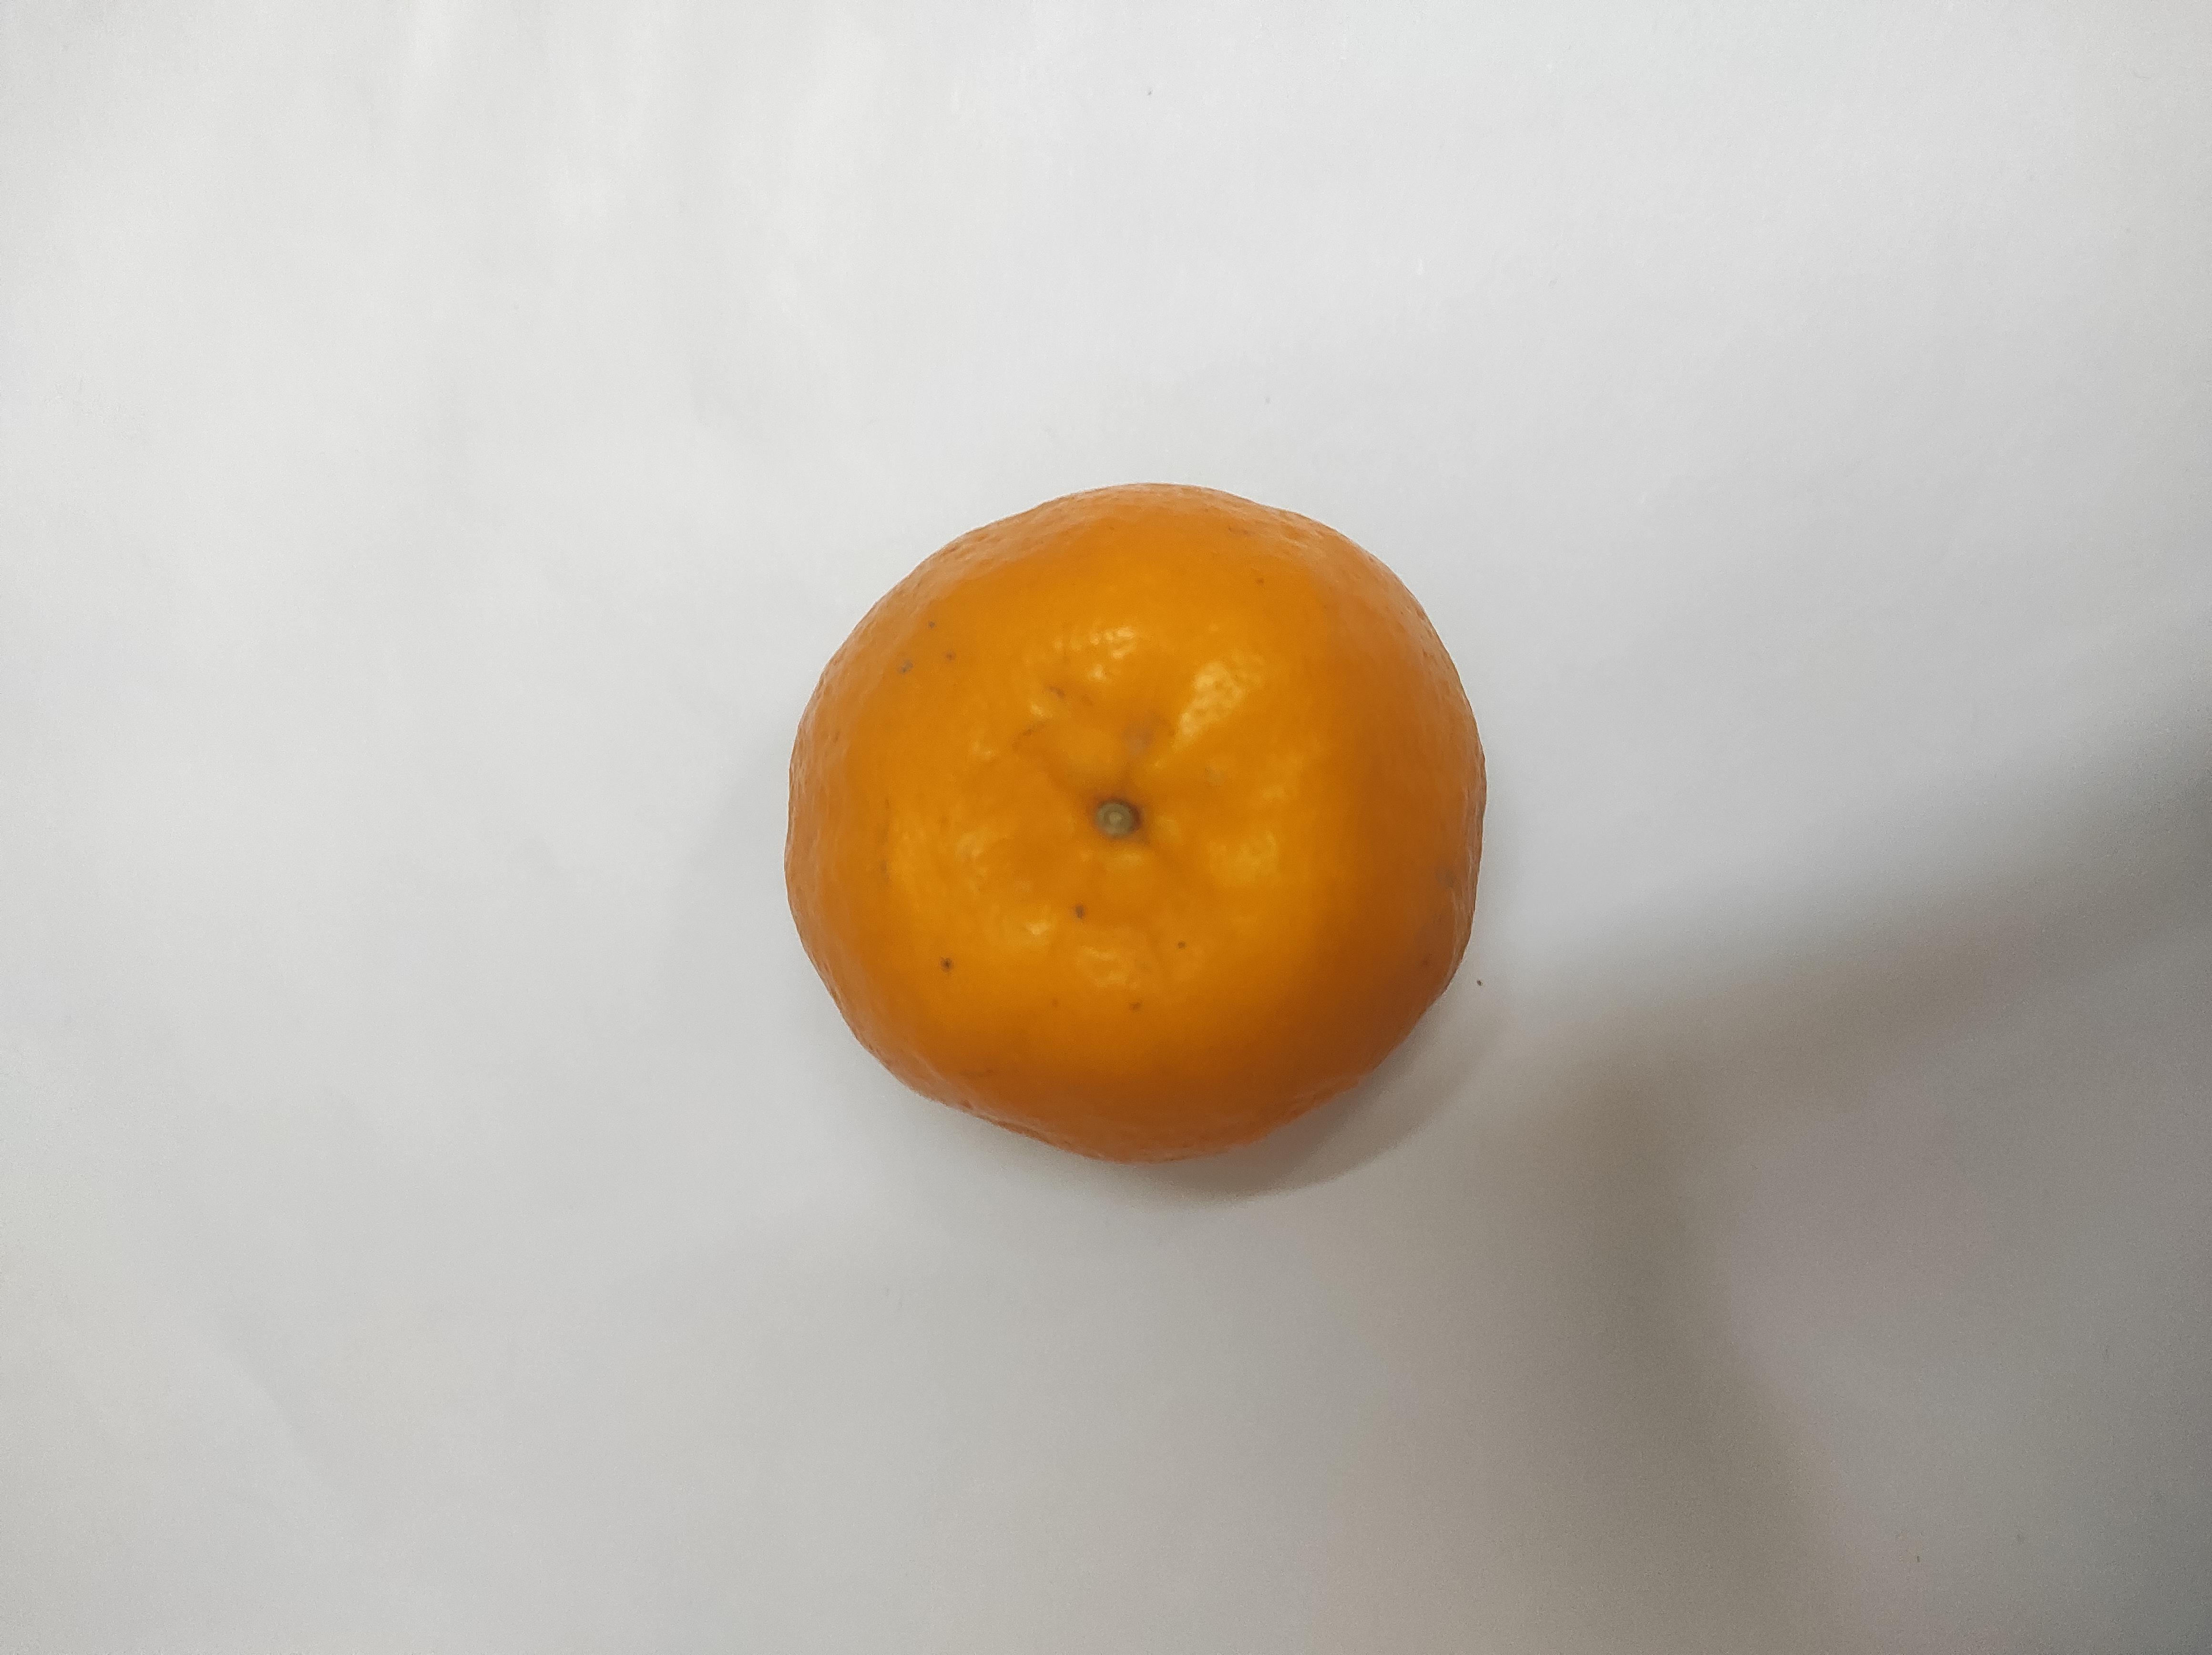Ripe: (663, 593, 1555, 1113)
